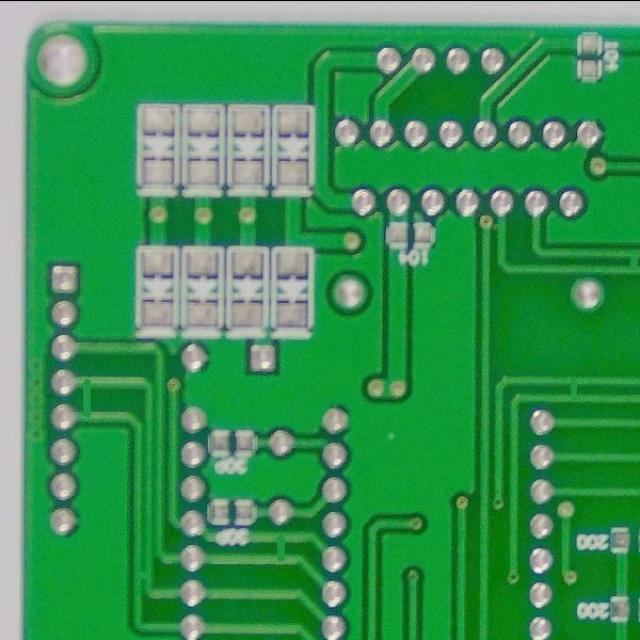Short_Circuit: (74, 369, 104, 428), (262, 524, 299, 570), (559, 370, 589, 408), (616, 244, 640, 280), (129, 564, 157, 587)
